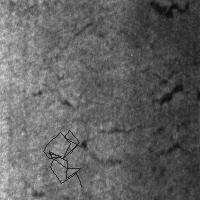crazing: (78, 121, 194, 167), (43, 130, 81, 186)
